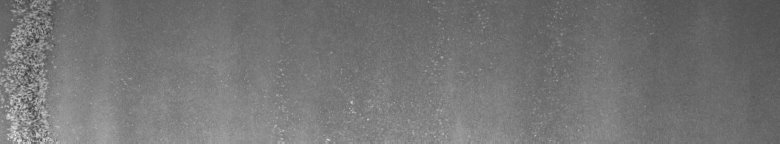hc: (4, 4, 64, 136)
